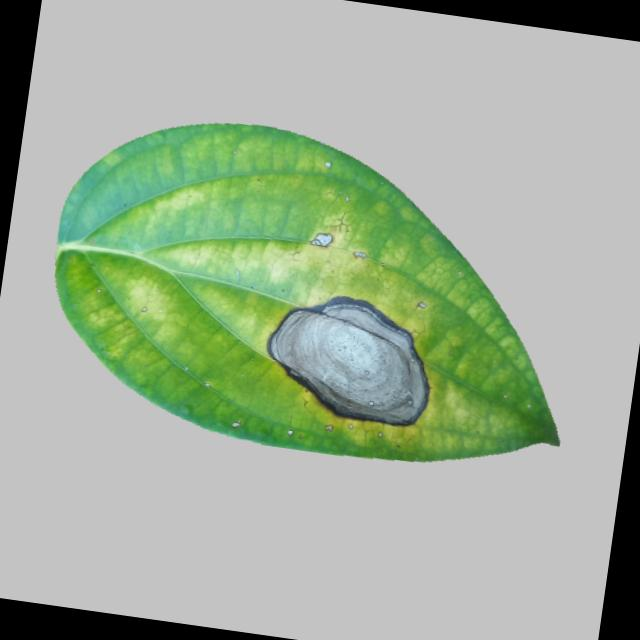leaf-blight: (24, 104, 607, 496)
